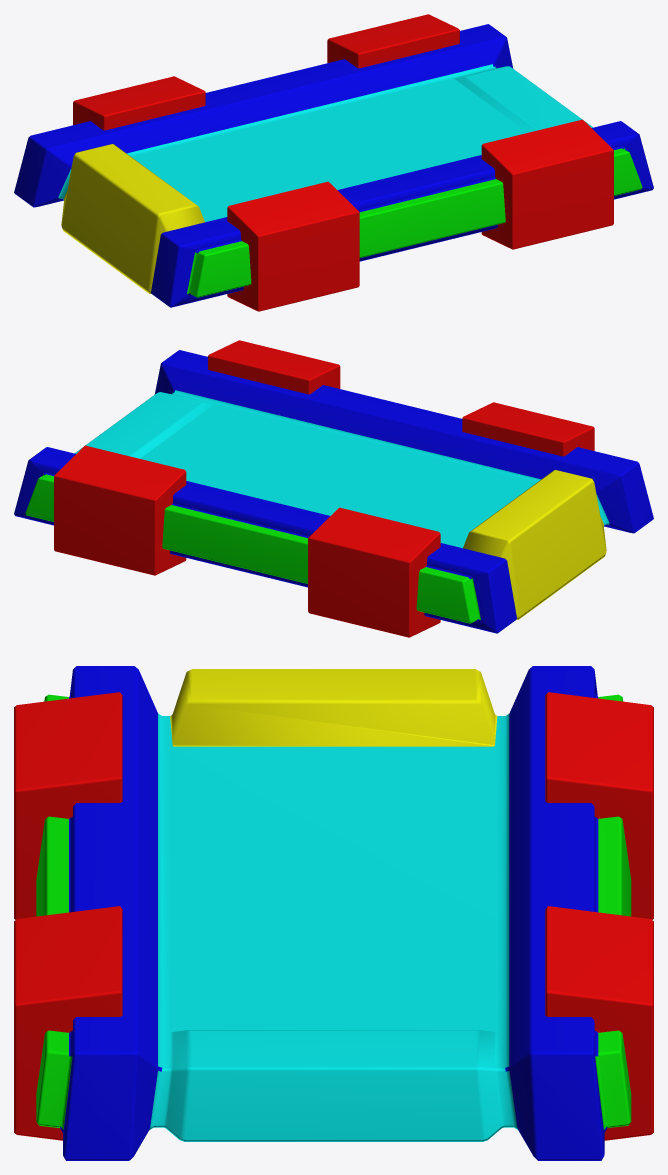
Rendered from CustomizationPlatform.fbx.
3 views of the same model, one above another, from view 1: azimuth 30°, elevation 25°; view 2: azimuth 150°, elevation 25°; view 3: azimuth 270°, elevation 25° (orthographic). The views are drawn at different scales.
Visible parts, largest first — view 1: CustomizationPlatform; view 2: CustomizationPlatform; view 3: CustomizationPlatform.
Part boxes in pixels (x1,y1,x2,y2): CustomizationPlatform: (14,14,653,311); CustomizationPlatform: (14,340,653,637); CustomizationPlatform: (14,666,653,1160).
Bounding box in the file's own units: 879 × 159 × 583.
